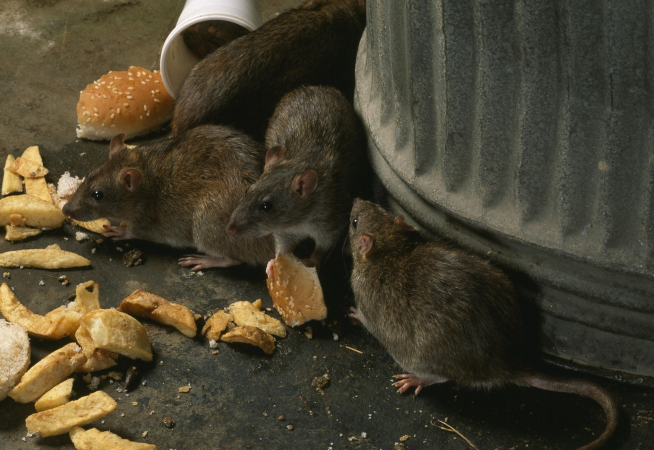rat: (325, 186, 568, 404), (53, 113, 264, 282), (222, 74, 359, 276)
